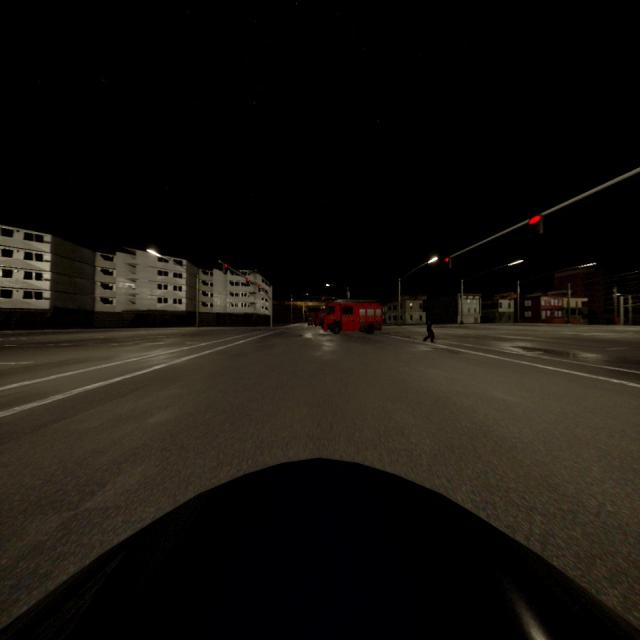Pedestrian: (424, 313, 434, 342)
Vehicle: (0, 460, 640, 640), (324, 302, 382, 332), (314, 312, 324, 328), (308, 319, 313, 326)
traffic_light: (528, 215, 542, 233), (446, 257, 451, 269), (225, 264, 228, 274), (246, 278, 249, 286), (258, 285, 261, 292), (322, 296, 324, 299)
